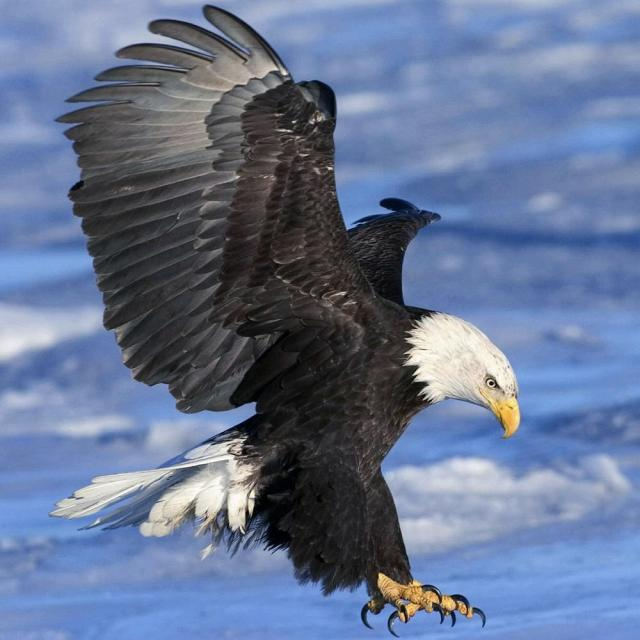eagle: (52, 6, 519, 630)
